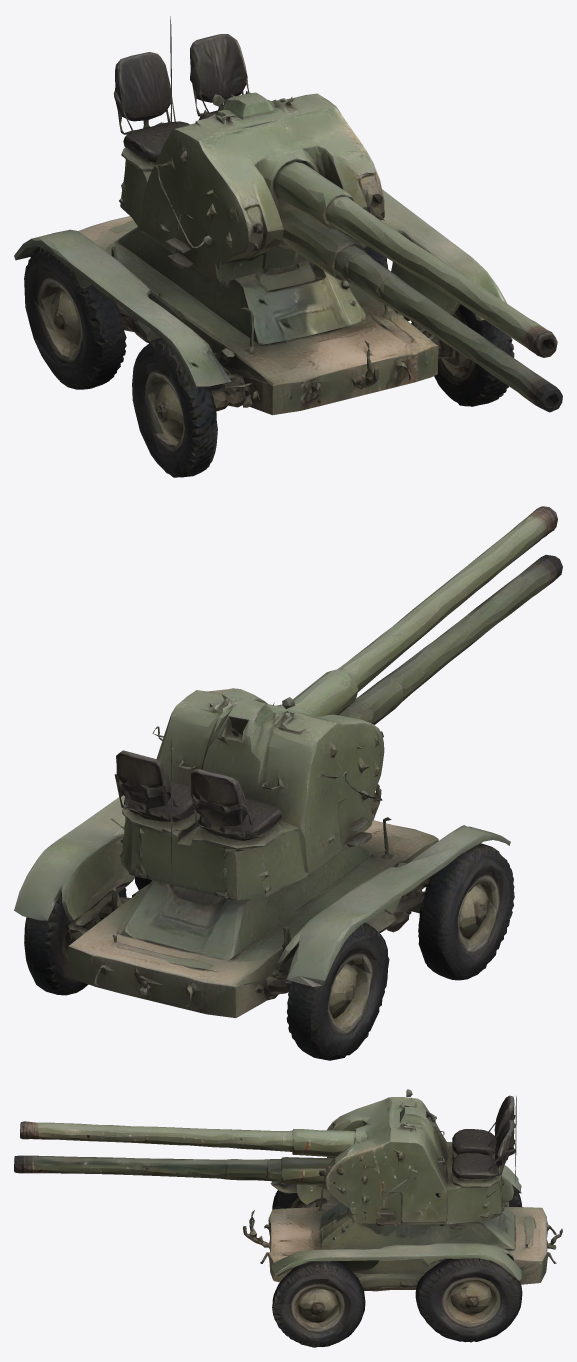
File: zu23_towed.glb
3 views of the same model, one above another, from view 1: azimuth 30°, elevation 25°; view 2: azimuth 150°, elevation 25°; view 3: azimuth 270°, elevation 25° (orthographic). The views are drawn at different scales.
Visible parts, largest first — view 1: carriage, turret, barrels; view 2: carriage, turret, barrels; view 3: carriage, turret, barrels.
Part boxes in pixels (<box>): carriage: <box>14,189,514,477</box>; turret: <box>113,16,432,320</box>; barrels: <box>397,243,562,412</box>; carriage: <box>14,784,514,1060</box>; turret: <box>111,602,431,900</box>; barrels: <box>402,506,562,684</box>; carriage: <box>243,1165,562,1347</box>; turret: <box>180,1089,516,1225</box>; barrels: <box>14,1121,205,1177</box>.
Size of the model in its own units: 2.09 by 1.9 by 4.6.
1 material, 1 textured.
